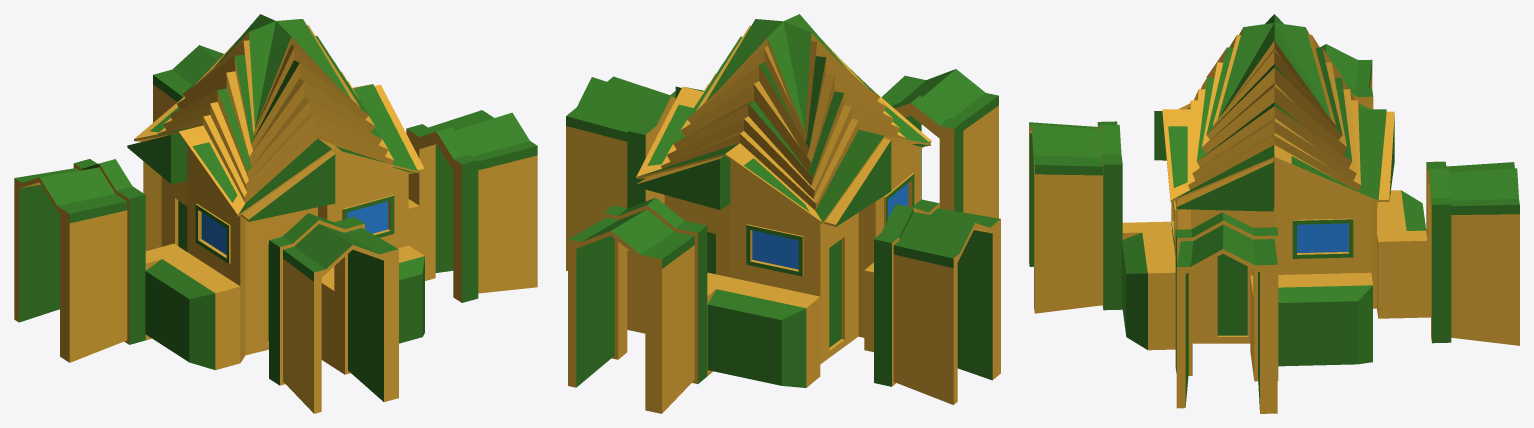
The model's file is house_for_game.glb.
The picture shows the model from 3 angles, left to right: view 1: azimuth 30°, elevation 25°; view 2: azimuth 150°, elevation 25°; view 3: azimuth 270°, elevation 25°; orthographic projection. The views are drawn at different scales.
Visible parts, largest first — view 1: Cube_0; view 2: Cube_0; view 3: Cube_0.
Part boxes in pixels (x1=…): Cube_0: x1=14, y1=14, x2=537, y2=413; Cube_0: x1=566, y1=14, x2=1000, y2=413; Cube_0: x1=1029, y1=14, x2=1519, y2=413.
Bounding box in the file's own units: 5.87 × 3.82 × 5.87.
